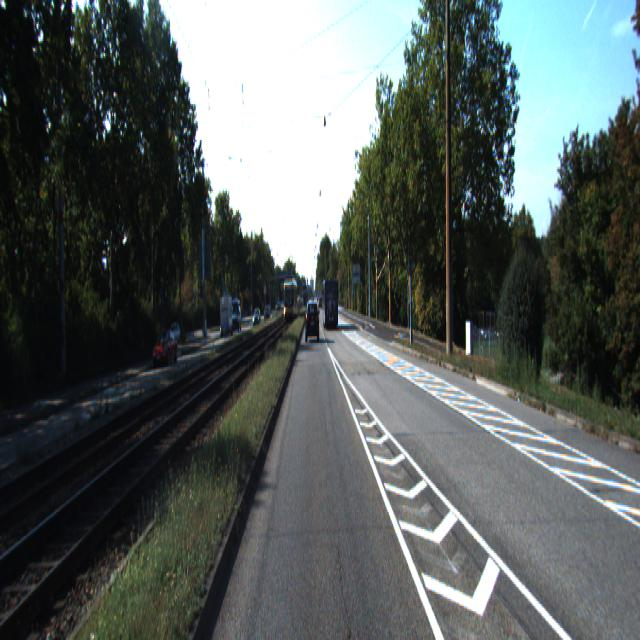Car: (152, 328, 178, 369), (322, 278, 339, 329), (219, 294, 233, 339), (306, 300, 319, 342)
